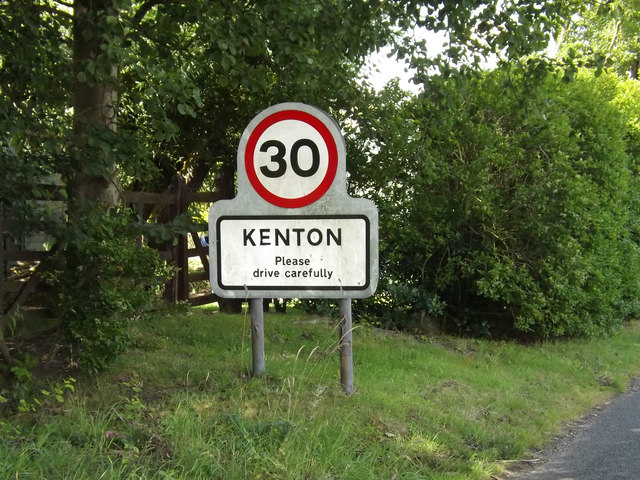Speed_limit_30km: (244, 109, 339, 208)
